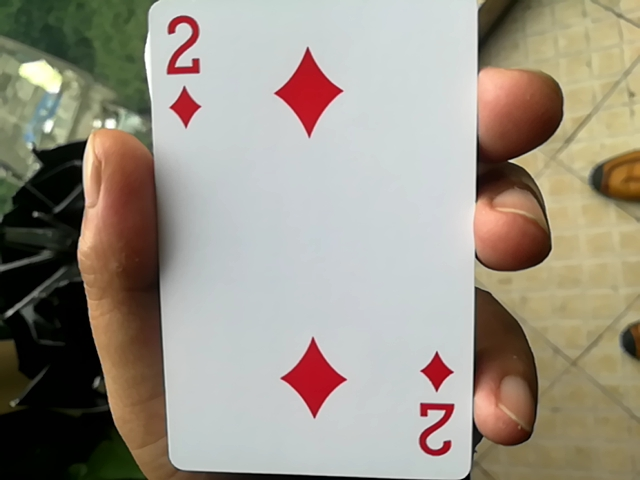fk 2: (137, 0, 491, 480)
